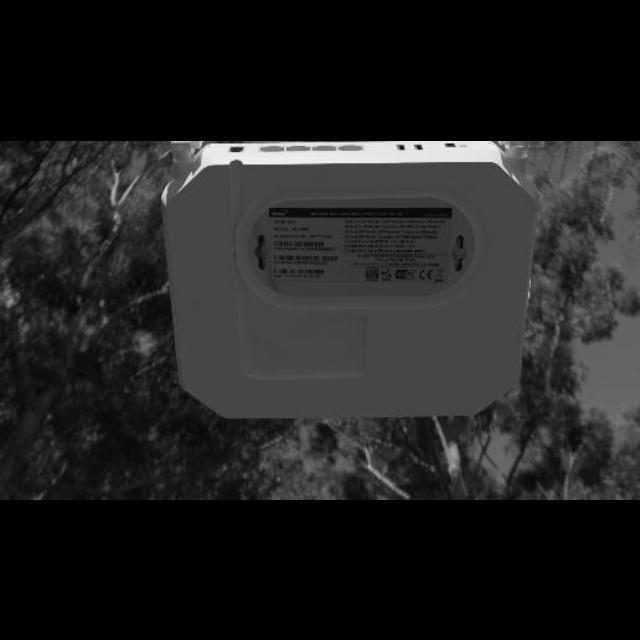Router: (156, 142, 550, 438)
